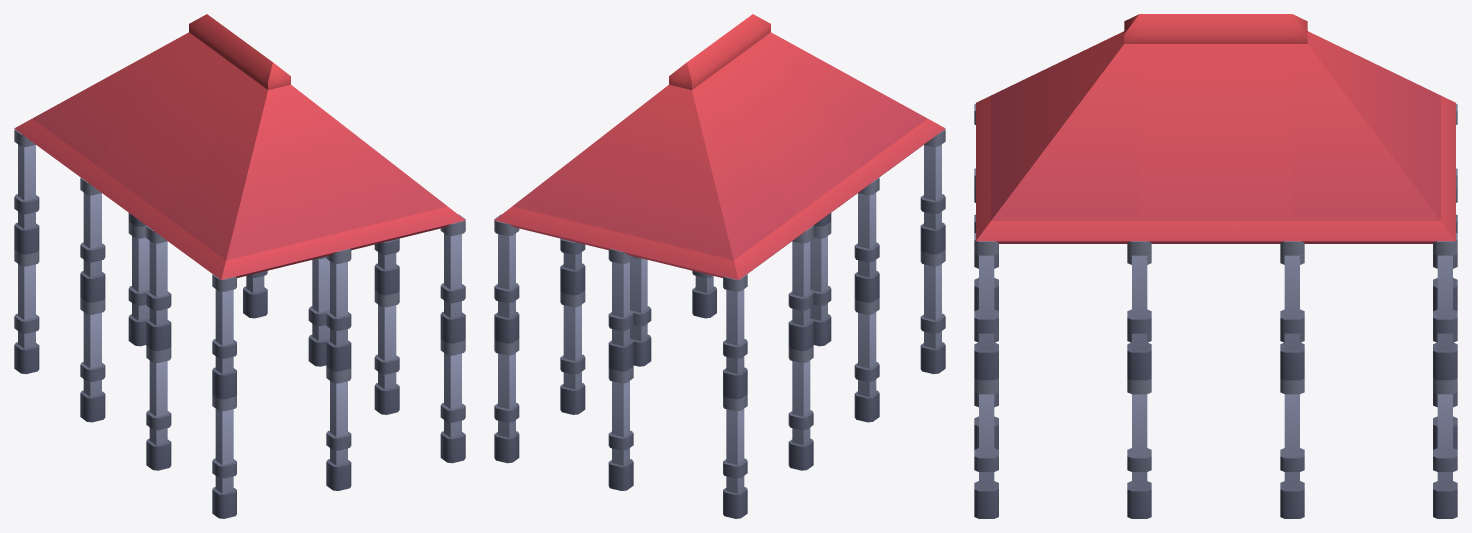
File: shrine_small.glb
The picture shows the model from 3 angles, left to right: view 1: azimuth 30°, elevation 25°; view 2: azimuth 150°, elevation 25°; view 3: azimuth 270°, elevation 25°; orthographic projection. The views are drawn at different scales.
Visible parts, largest first — view 1: shrine_small; view 2: shrine_small; view 3: shrine_small.
Part boxes in pixels (bbox=[...]): shrine_small: bbox=[14, 14, 465, 518]; shrine_small: bbox=[494, 14, 945, 518]; shrine_small: bbox=[974, 14, 1457, 518].
Size of the model in its own units: 6.48 by 9.42 by 9.48.
26 materials, 26 textured.
